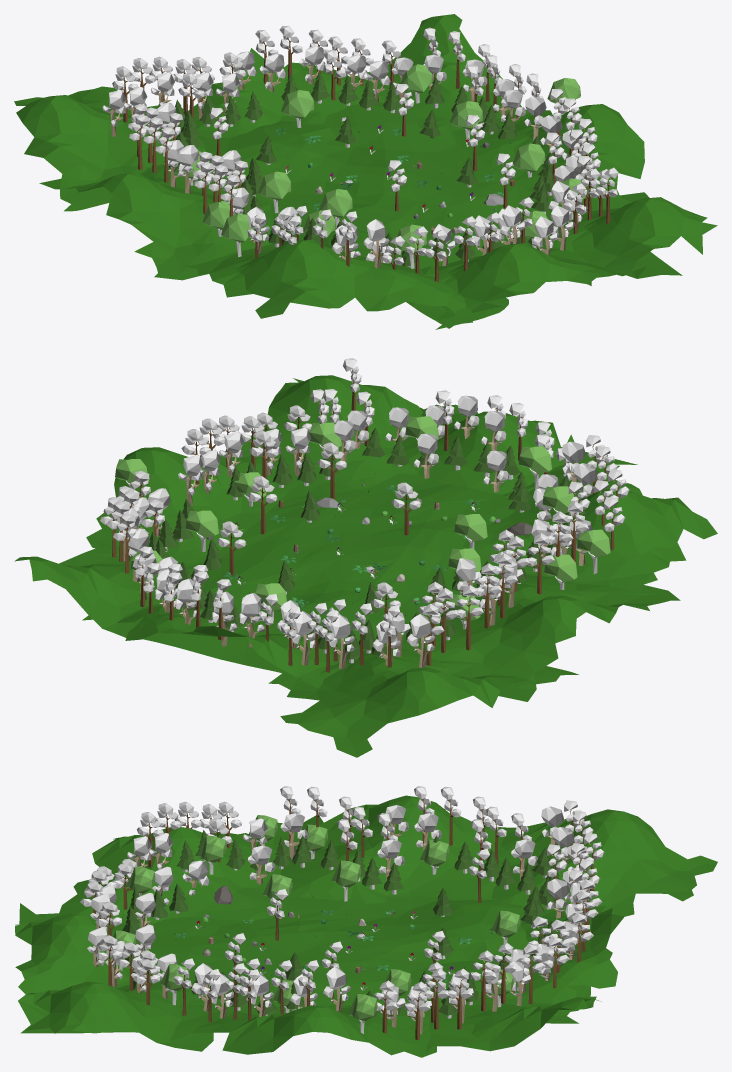
Rendered from Bosque3.glb.
The picture shows the model from 3 angles, top to bottom: view 1: azimuth 30°, elevation 25°; view 2: azimuth 150°, elevation 25°; view 3: azimuth 270°, elevation 25°; orthographic projection. The views are drawn at different scales.
Parts seen in each view (by area): view 1: imagetostl_mesh1, imagetostl_mesh14, imagetostl_mesh13, imagetostl_mesh9, imagetostl_mesh10, imagetostl_mesh15, imagetostl_mesh11, imagetostl_mesh8, imagetostl_mesh12, imagetostl_mesh51, imagetostl_mesh49, imagetostl_mesh49.003 (+20 smaller); view 2: imagetostl_mesh1, imagetostl_mesh13, imagetostl_mesh9, imagetostl_mesh14, imagetostl_mesh11, imagetostl_mesh15, imagetostl_mesh12, imagetostl_mesh10, imagetostl_mesh8, imagetostl_mesh153.019, imagetostl_mesh51.003, imagetostl_mesh49.006 (+21 smaller); view 3: imagetostl_mesh1, imagetostl_mesh9, imagetostl_mesh13, imagetostl_mesh14, imagetostl_mesh11, imagetostl_mesh15, imagetostl_mesh10, imagetostl_mesh12, imagetostl_mesh8, imagetostl_mesh153, imagetostl_mesh49.005, imagetostl_mesh51 (+46 smaller).
Part boxes in pixels (bbox=[...]): imagetostl_mesh1: bbox=[197, 102, 552, 268]; imagetostl_mesh14: bbox=[186, 228, 508, 329]; imagetostl_mesh13: bbox=[14, 86, 205, 211]; imagetostl_mesh9: bbox=[39, 164, 278, 280]; imagetostl_mesh10: bbox=[406, 243, 682, 328]; imagetostl_mesh15: bbox=[525, 192, 717, 285]; imagetostl_mesh11: bbox=[453, 104, 644, 217]; imagetostl_mesh8: bbox=[169, 48, 387, 137]; imagetostl_mesh12: bbox=[350, 14, 529, 130]; imagetostl_mesh51: bbox=[258, 171, 291, 213]; imagetostl_mesh49: bbox=[281, 90, 314, 127]; imagetostl_mesh49.003: bbox=[513, 143, 545, 177]; imagetostl_mesh1: bbox=[133, 474, 515, 676]; imagetostl_mesh13: bbox=[268, 648, 578, 757]; imagetostl_mesh9: bbox=[401, 573, 680, 701]; imagetostl_mesh14: bbox=[463, 447, 717, 593]; imagetostl_mesh11: bbox=[86, 446, 321, 563]; imagetostl_mesh15: bbox=[219, 375, 422, 488]; imagetostl_mesh12: bbox=[14, 542, 193, 637]; imagetostl_mesh10: bbox=[392, 404, 619, 494]; imagetostl_mesh8: bbox=[82, 604, 339, 688]; imagetostl_mesh153.019: bbox=[407, 613, 435, 667]; imagetostl_mesh51.003: bbox=[577, 529, 610, 573]; imagetostl_mesh49.006: bbox=[519, 446, 551, 490]; imagetostl_mesh1: bbox=[149, 896, 590, 1013]; imagetostl_mesh9: bbox=[273, 795, 498, 903]; imagetostl_mesh13: bbox=[484, 809, 717, 916]; imagetostl_mesh14: bbox=[19, 827, 295, 927]; imagetostl_mesh11: bbox=[169, 1004, 436, 1057]; imagetostl_mesh15: bbox=[25, 981, 213, 1051]; imagetostl_mesh10: bbox=[15, 913, 148, 1033]; imagetostl_mesh12: bbox=[425, 996, 600, 1052]; imagetostl_mesh8: bbox=[509, 905, 623, 1023]; imagetostl_mesh153: bbox=[323, 966, 350, 1012]; imagetostl_mesh49.005: bbox=[197, 835, 226, 874]; imagetostl_mesh51: bbox=[331, 860, 361, 901].
Bounding box in the file's own units: 13.69 × 2.33 × 16.49.
